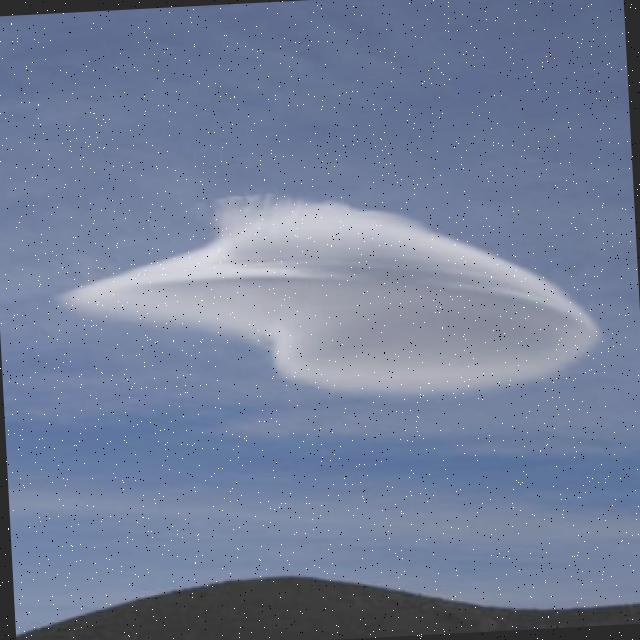Ac: (41, 169, 622, 428)
